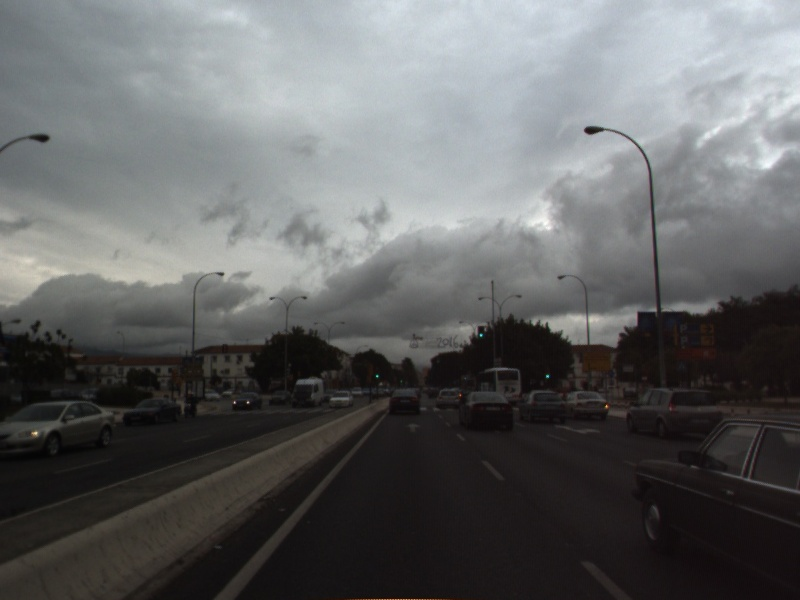STRAIGHT: (403, 421, 424, 435)
STRAIGHT_RIGHT: (552, 422, 603, 437)
